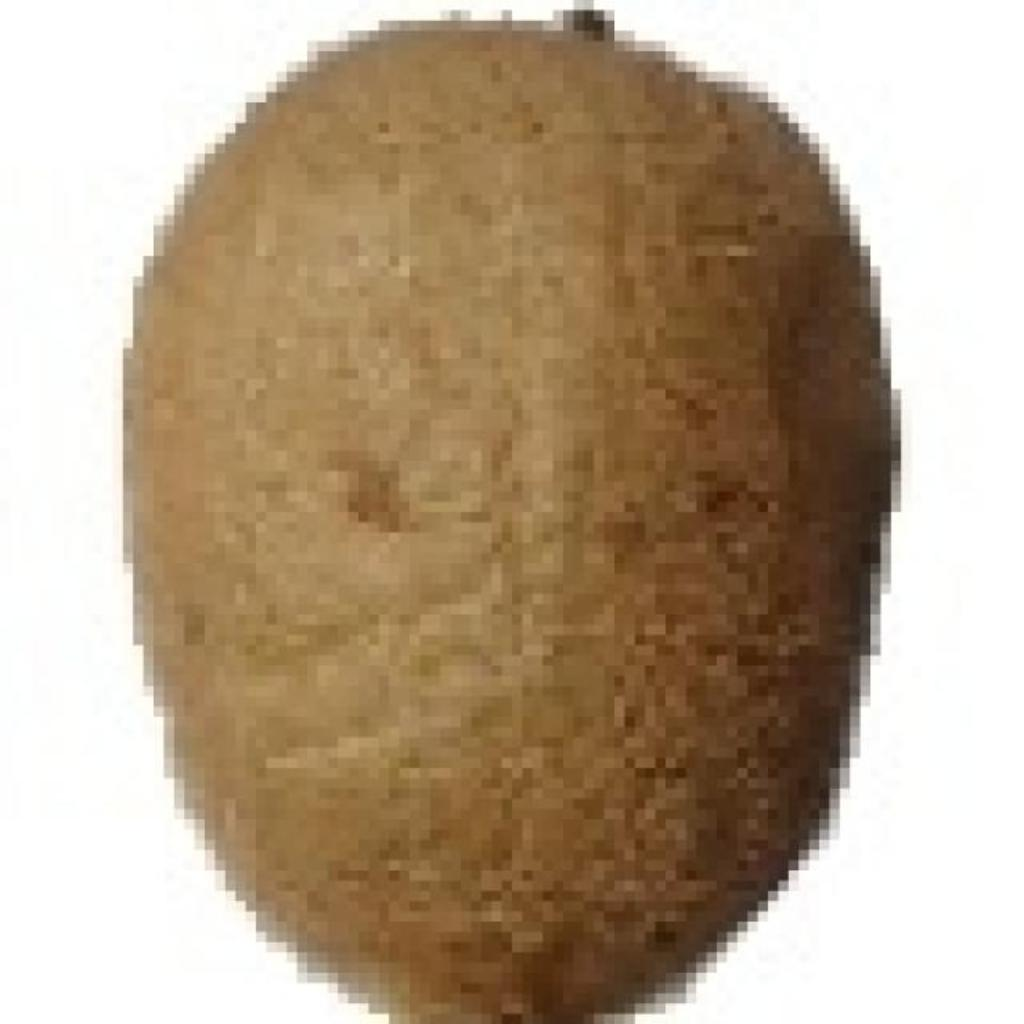kiwi: (113, 10, 870, 1004)
